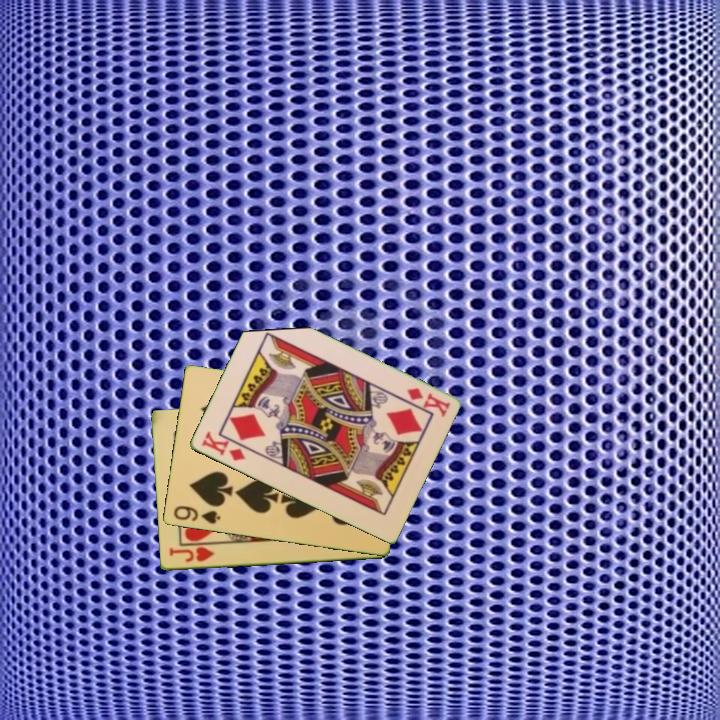9s: (170, 502, 223, 527)
Jh: (165, 544, 217, 565)
Kd: (197, 428, 248, 464), (403, 384, 453, 419)
